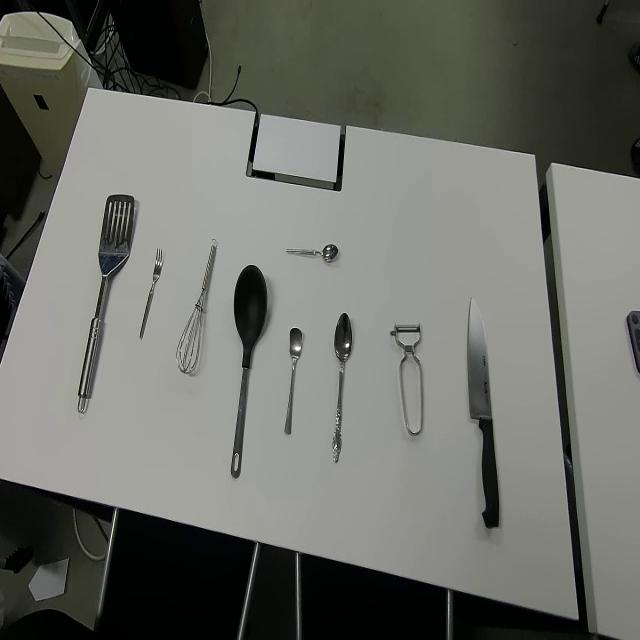Desert-Spoon: (332, 311, 353, 466)
Dinner-Fork: (138, 245, 164, 343)
Kitchen-Knife: (467, 294, 500, 530)
Peeler: (389, 318, 423, 436)
Serving-Spoon: (77, 192, 135, 416), (230, 264, 268, 481)
Tea-Spoon: (284, 326, 304, 437), (285, 240, 339, 263)
Whisk: (176, 237, 217, 376)
